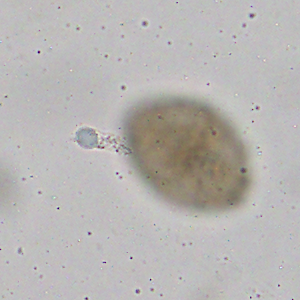Fasciola_hepatica_egg: (123, 93, 250, 208)
